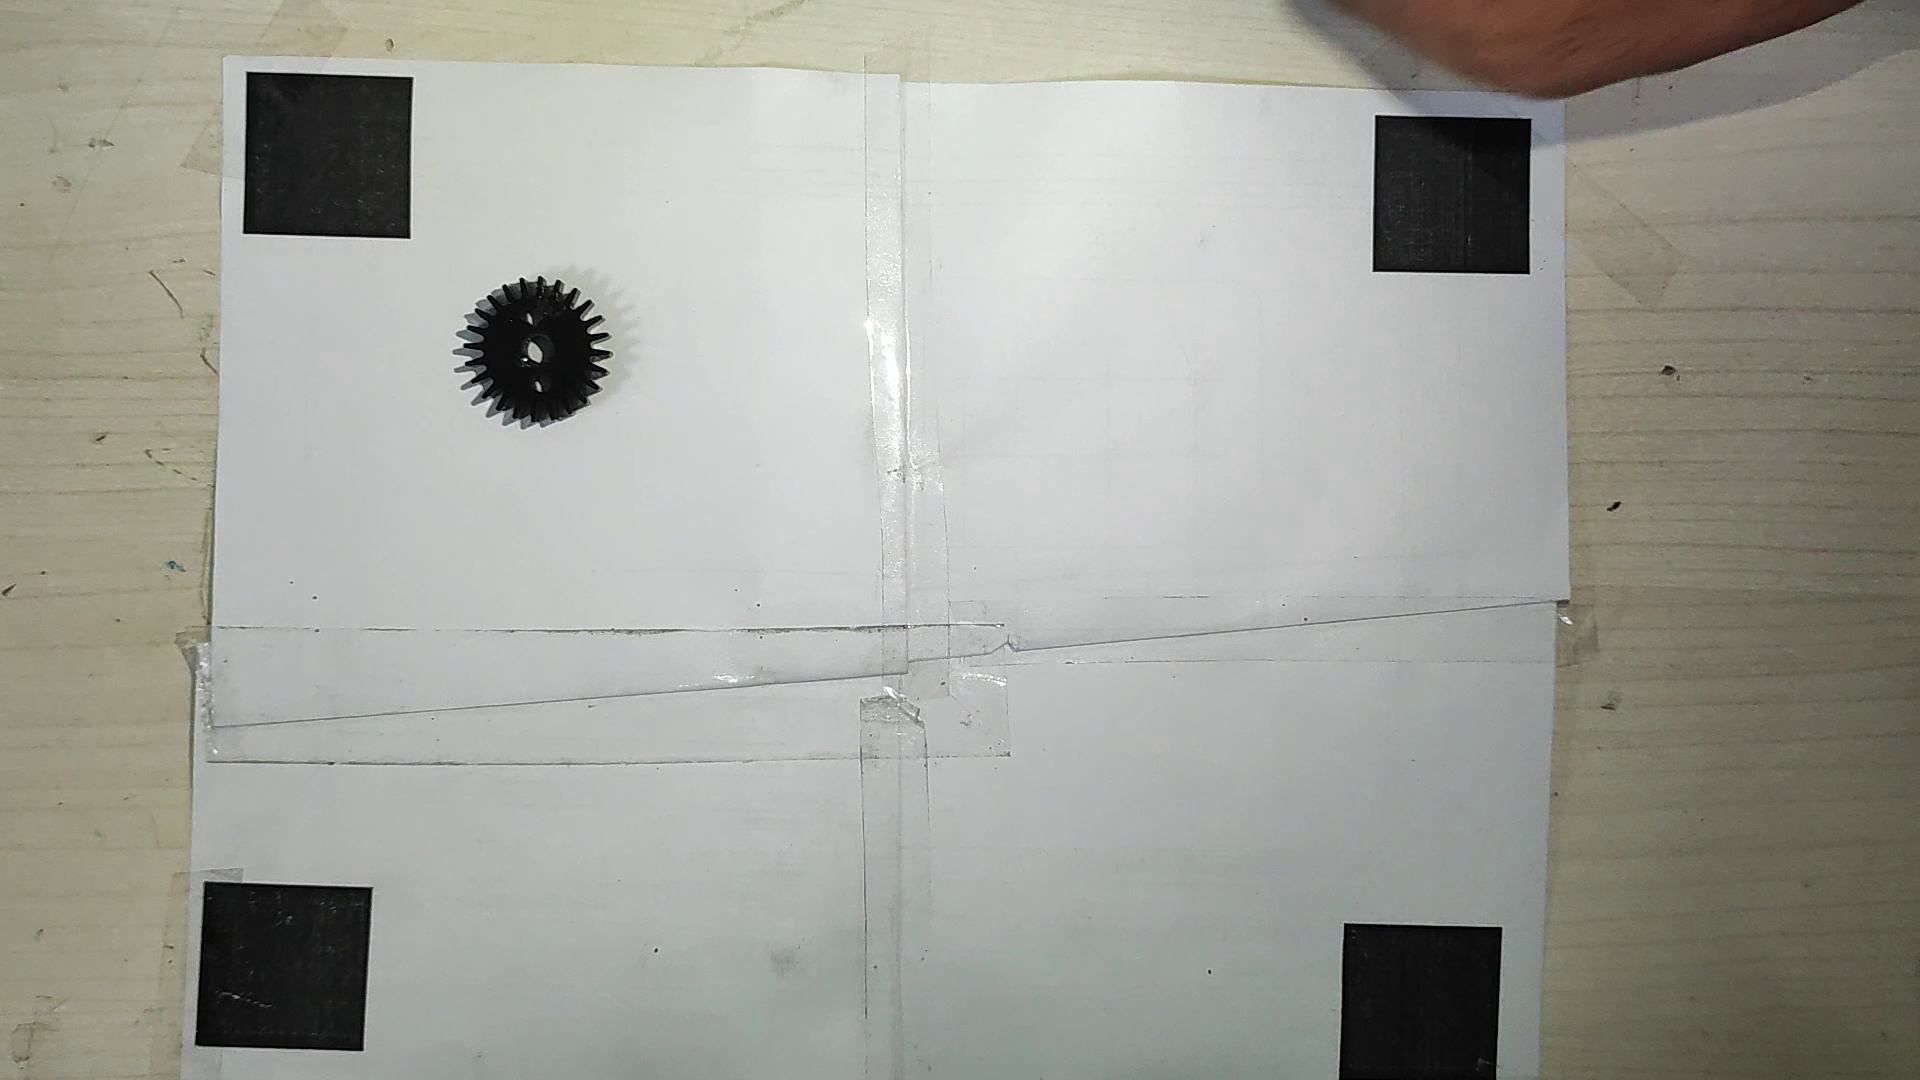Gear: (455, 273, 616, 431)
